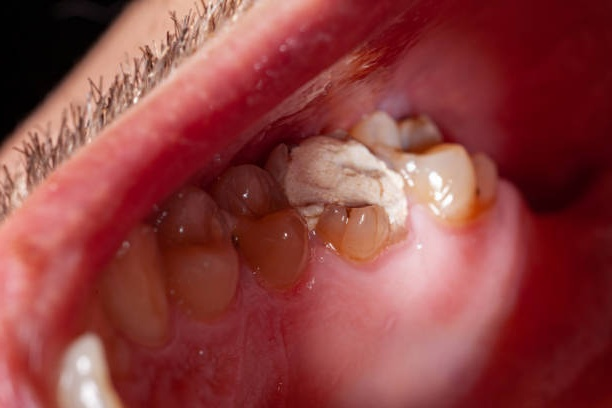Caries: (316, 189, 401, 246), (199, 195, 261, 255)
